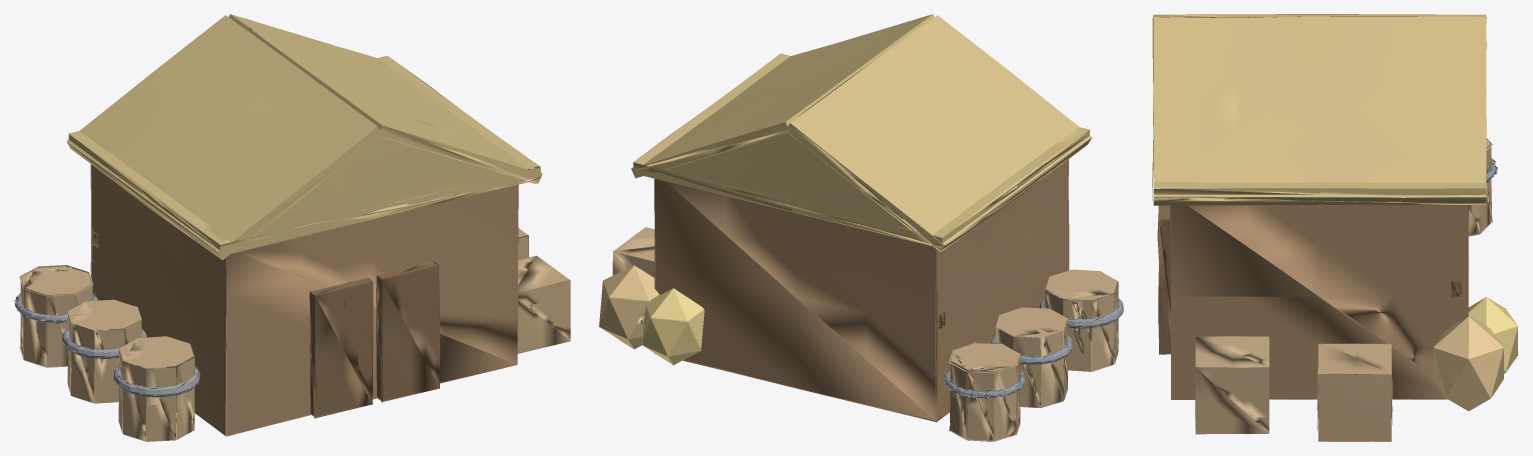
The model's file is warehouse.glb.
3 renders of one model, left to right at view 1: azimuth 30°, elevation 25°; view 2: azimuth 150°, elevation 25°; view 3: azimuth 270°, elevation 25°, orthographic. The views are drawn at different scales.
Parts seen in each view (by area): view 1: WarehouseBody; view 2: WarehouseBody; view 3: WarehouseBody.
Boxes of the visible parts, x1,y1,x2,y2 form: WarehouseBody: (14,14,570,441); WarehouseBody: (599,14,1123,441); WarehouseBody: (1152,14,1518,441).
Bounding box in the file's own units: 3.24 × 1.94 × 2.09.
